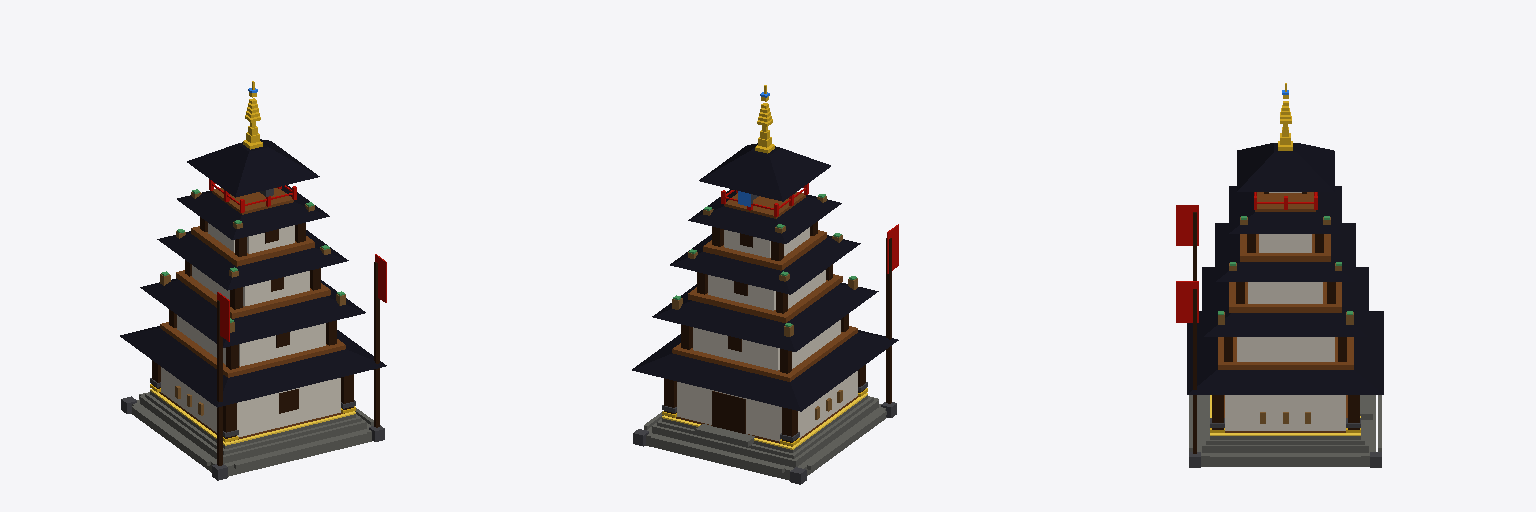
The model's file is sniper_t3.obj.
3 views of the same model, side by side, from view 1: azimuth 30°, elevation 25°; view 2: azimuth 150°, elevation 25°; view 3: azimuth 270°, elevation 25° (orthographic).
Bounding box in the file's own units: 26 × 50.3 × 27.5.